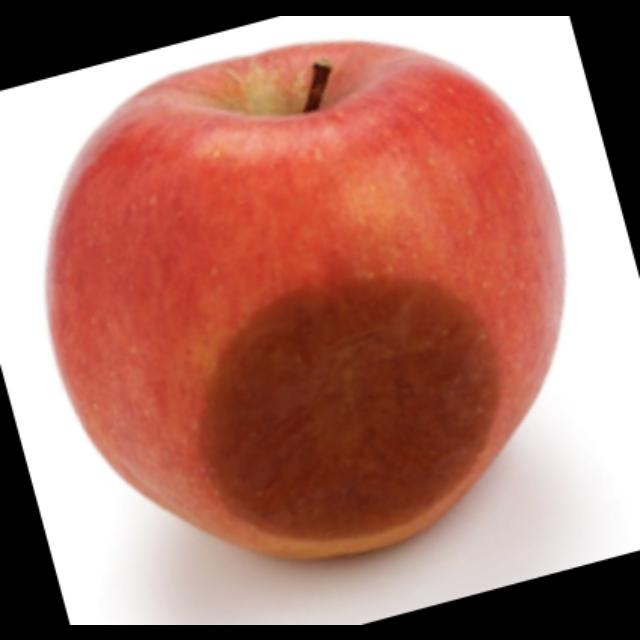Apel Tidak Segar: (27, 31, 601, 570)
